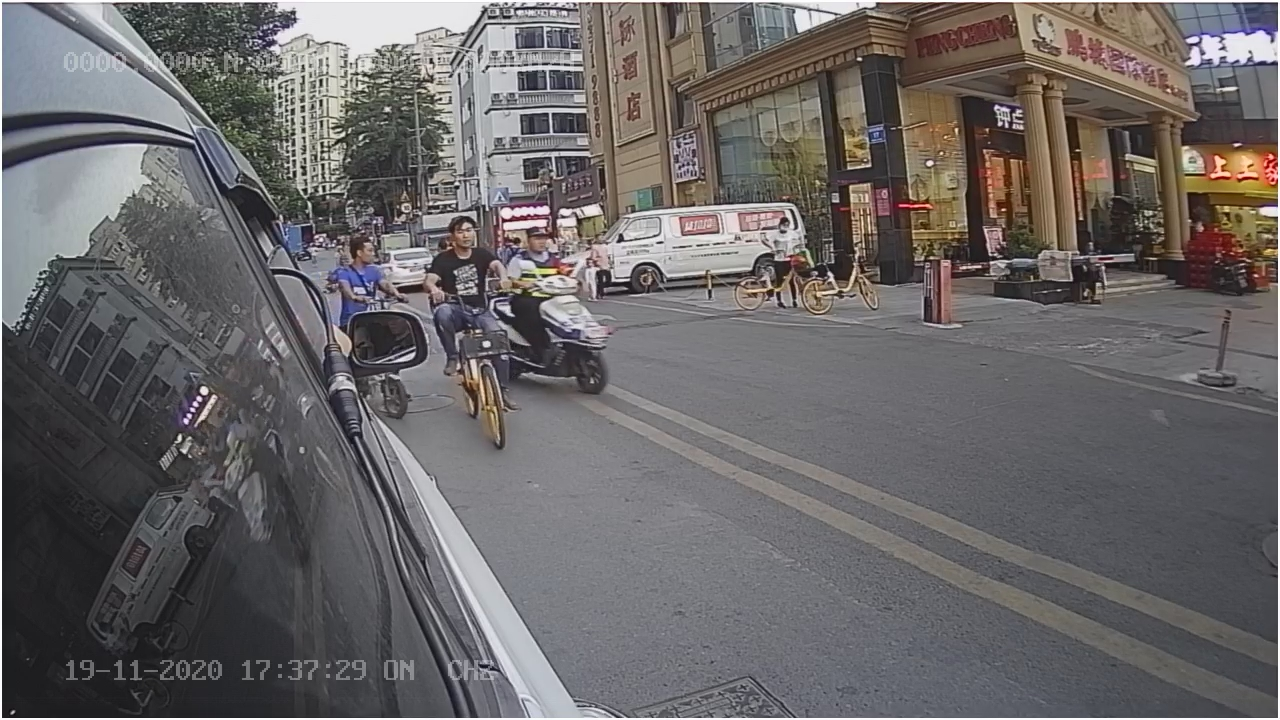person: (427, 216, 498, 290)
